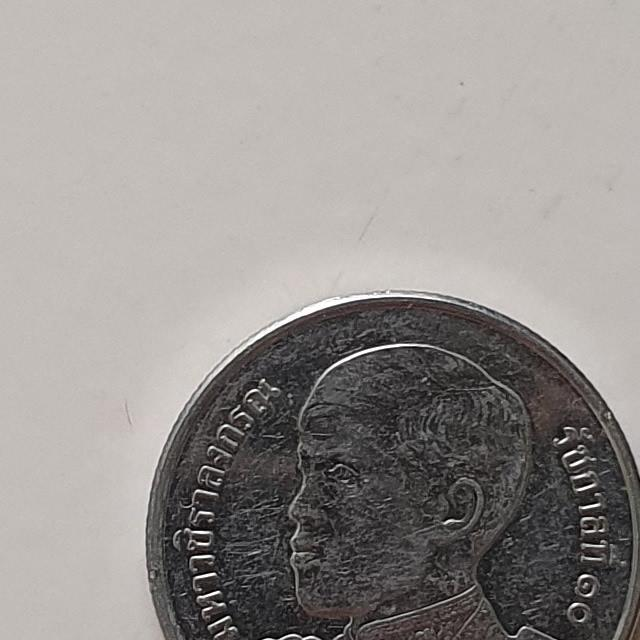1 Bath: (135, 279, 640, 640)
